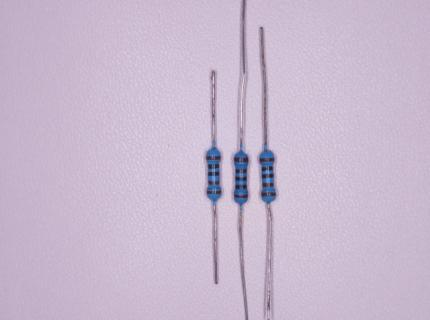Black band: (235, 184, 247, 190), (235, 177, 247, 182), (261, 166, 273, 171), (262, 174, 274, 179), (208, 164, 219, 169), (208, 172, 219, 176)
Brown band: (234, 157, 248, 163), (259, 157, 274, 162), (261, 193, 276, 198), (262, 182, 274, 188), (207, 190, 222, 194), (206, 156, 220, 160), (234, 194, 248, 198), (235, 169, 247, 173), (208, 181, 220, 185)
